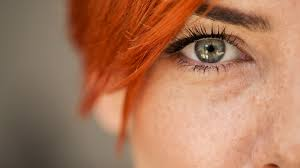pupil: (195, 38, 225, 62)
